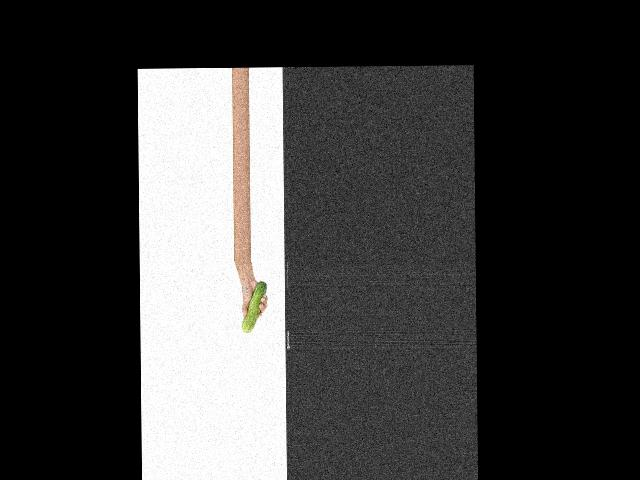cucumber: (240, 280, 267, 332)
